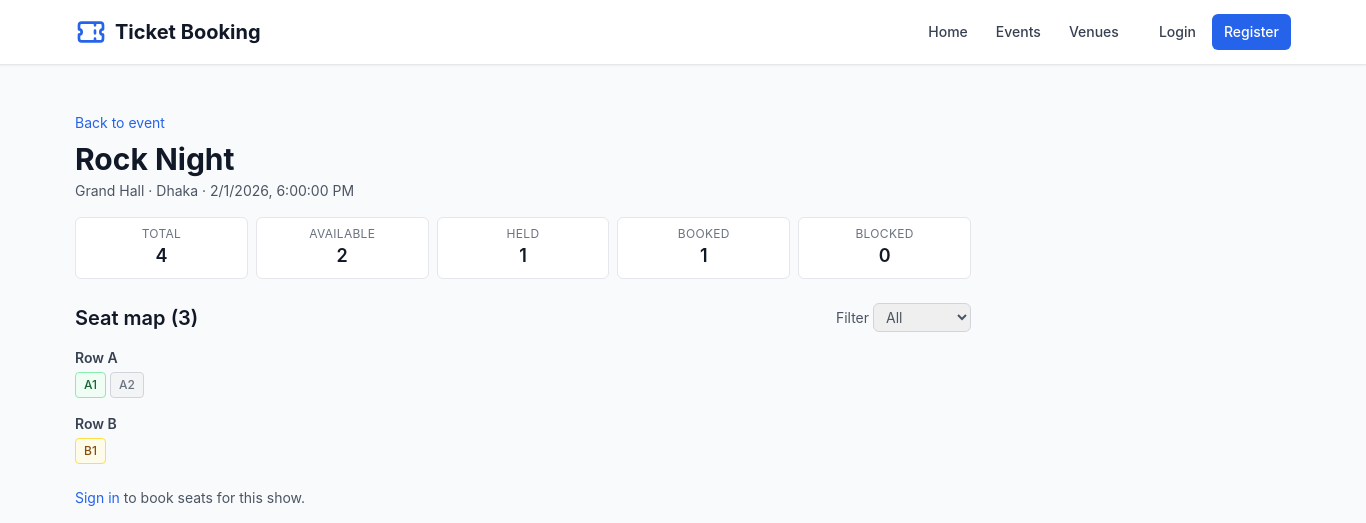
Test: show detail page › renders counts, groups seats by row, and filters by status
Check: the heading "Rock Night" is shown, box left=75, top=141, right=234, bottom=177
Check: the heading "Seat map (3)" is shown, box left=75, top=304, right=198, bottom=332
Step 1. Select "Booked" in the dropdown named "Filter seats by status" → (922, 318), box left=873, top=303, right=971, bottom=332
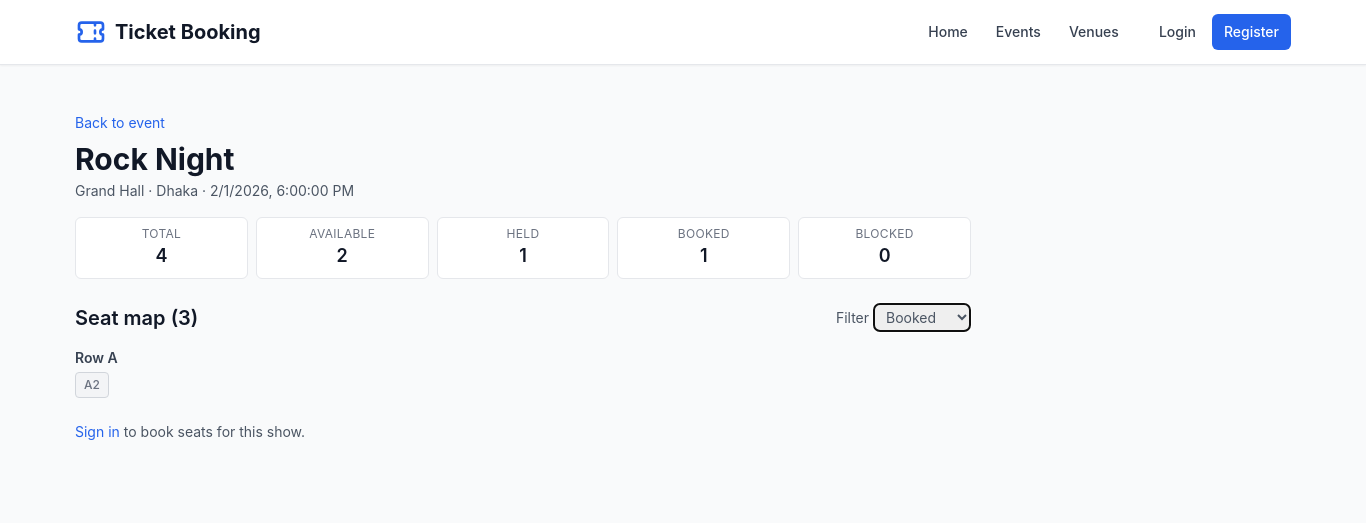
Check: the list item "A2" is shown, box left=75, top=372, right=109, bottom=398
Check: the list item "A1" is gone
